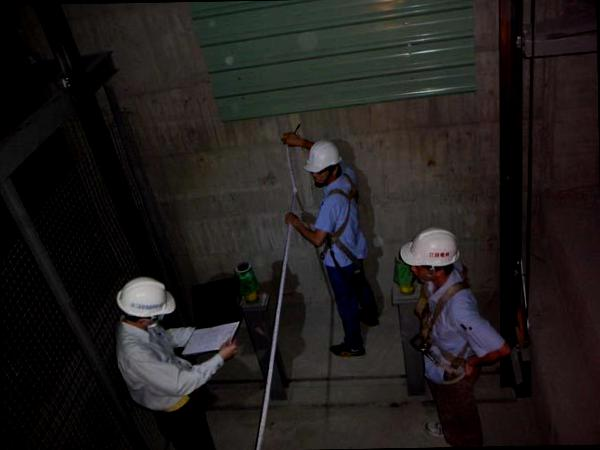helmet: (113, 271, 179, 328), (398, 228, 466, 276), (298, 138, 347, 176)
no_vest: (114, 320, 208, 416), (408, 283, 485, 390), (303, 187, 374, 270)
person: (396, 222, 512, 437), (106, 269, 230, 450), (292, 139, 382, 361)
